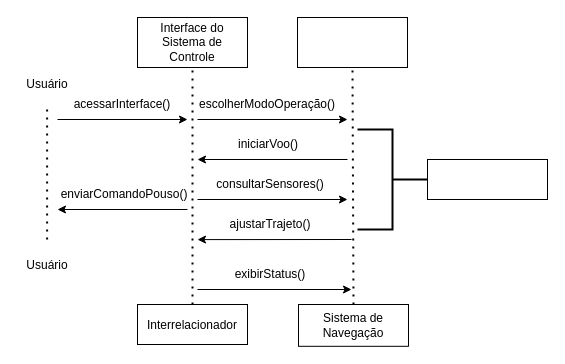
This 565x364 diagram has some shape labels left out. The shapes that lost their labels are listed below. From the top down, each one's box as (x1, y1, x2, y2) in pixels, then its label:
(296, 16, 408, 68): Controlador do Drone
(426, 158, 548, 200): Drones
